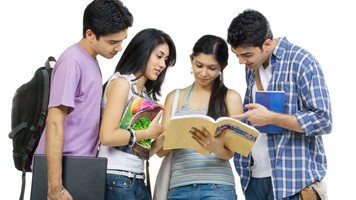Person: (228, 17, 325, 193), (55, 5, 120, 200), (174, 36, 239, 200), (123, 33, 177, 193)
